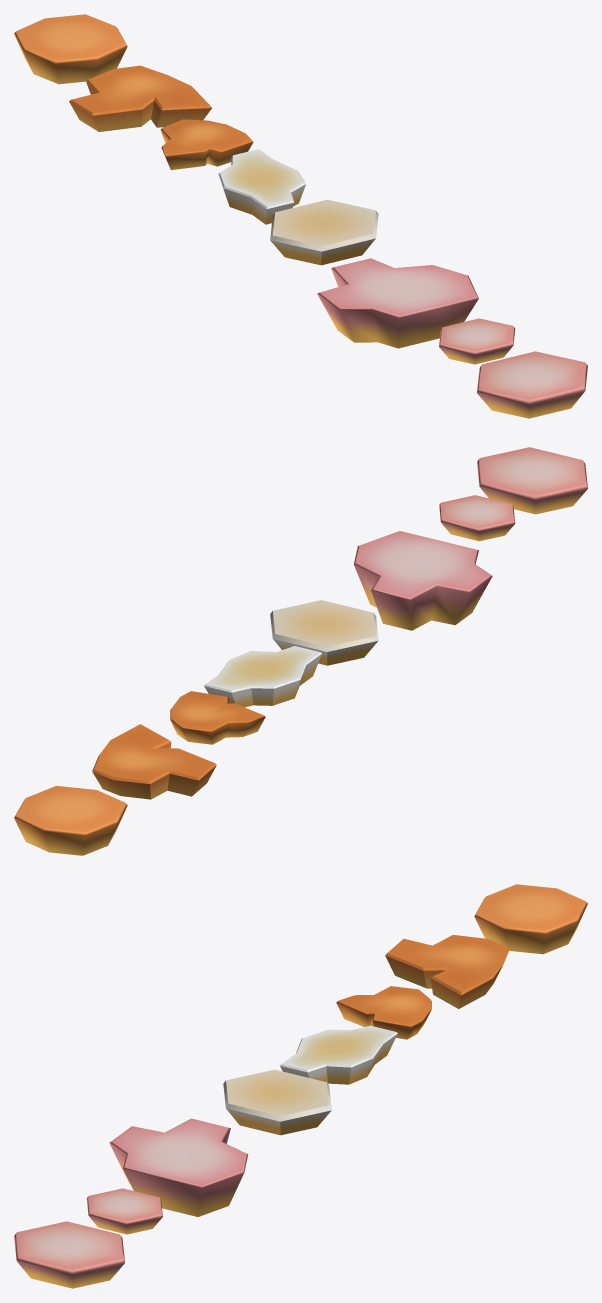
The model's file is sukusuku_sima.fbx.
3 renders of one model, top to bottom at view 1: azimuth 30°, elevation 25°; view 2: azimuth 150°, elevation 25°; view 3: azimuth 330°, elevation 25°, orthographic.
Visible parts, largest first — view 1: haru_01, aki_02, aki_01, haru_03, huyu_02, huyu_01, aki_03, haru_02; view 2: haru_01, aki_02, aki_01, haru_03, huyu_02, huyu_01, aki_03, haru_02; view 3: haru_01, aki_02, aki_01, haru_03, huyu_02, huyu_01, aki_03, haru_02.
Part boxes in pixels (bbox=[...]): haru_01: bbox=[317, 258, 478, 348]; aki_02: bbox=[69, 65, 211, 131]; aki_01: bbox=[14, 14, 127, 84]; haru_03: bbox=[477, 351, 587, 418]; huyu_02: bbox=[270, 199, 378, 265]; huyu_01: bbox=[218, 149, 305, 224]; aki_03: bbox=[160, 119, 253, 169]; haru_02: bbox=[439, 318, 515, 364]; haru_01: bbox=[353, 531, 492, 630]; aki_02: bbox=[92, 724, 216, 799]; aki_01: bbox=[14, 786, 127, 855]; haru_03: bbox=[477, 447, 587, 514]; huyu_02: bbox=[270, 600, 378, 665]; huyu_01: bbox=[204, 646, 321, 707]; aki_03: bbox=[170, 691, 265, 744]; haru_02: bbox=[439, 495, 515, 541]; haru_01: bbox=[109, 1118, 248, 1216]; aki_02: bbox=[385, 935, 509, 1008]; aki_01: bbox=[474, 884, 587, 954]; haru_03: bbox=[14, 1221, 124, 1288]; huyu_02: bbox=[223, 1069, 331, 1135]; huyu_01: bbox=[280, 1025, 397, 1084]; aki_03: bbox=[336, 986, 431, 1039]; haru_02: bbox=[86, 1188, 162, 1234].
Size of the model in its own units: 5.68 by 1.66 by 38.27.
